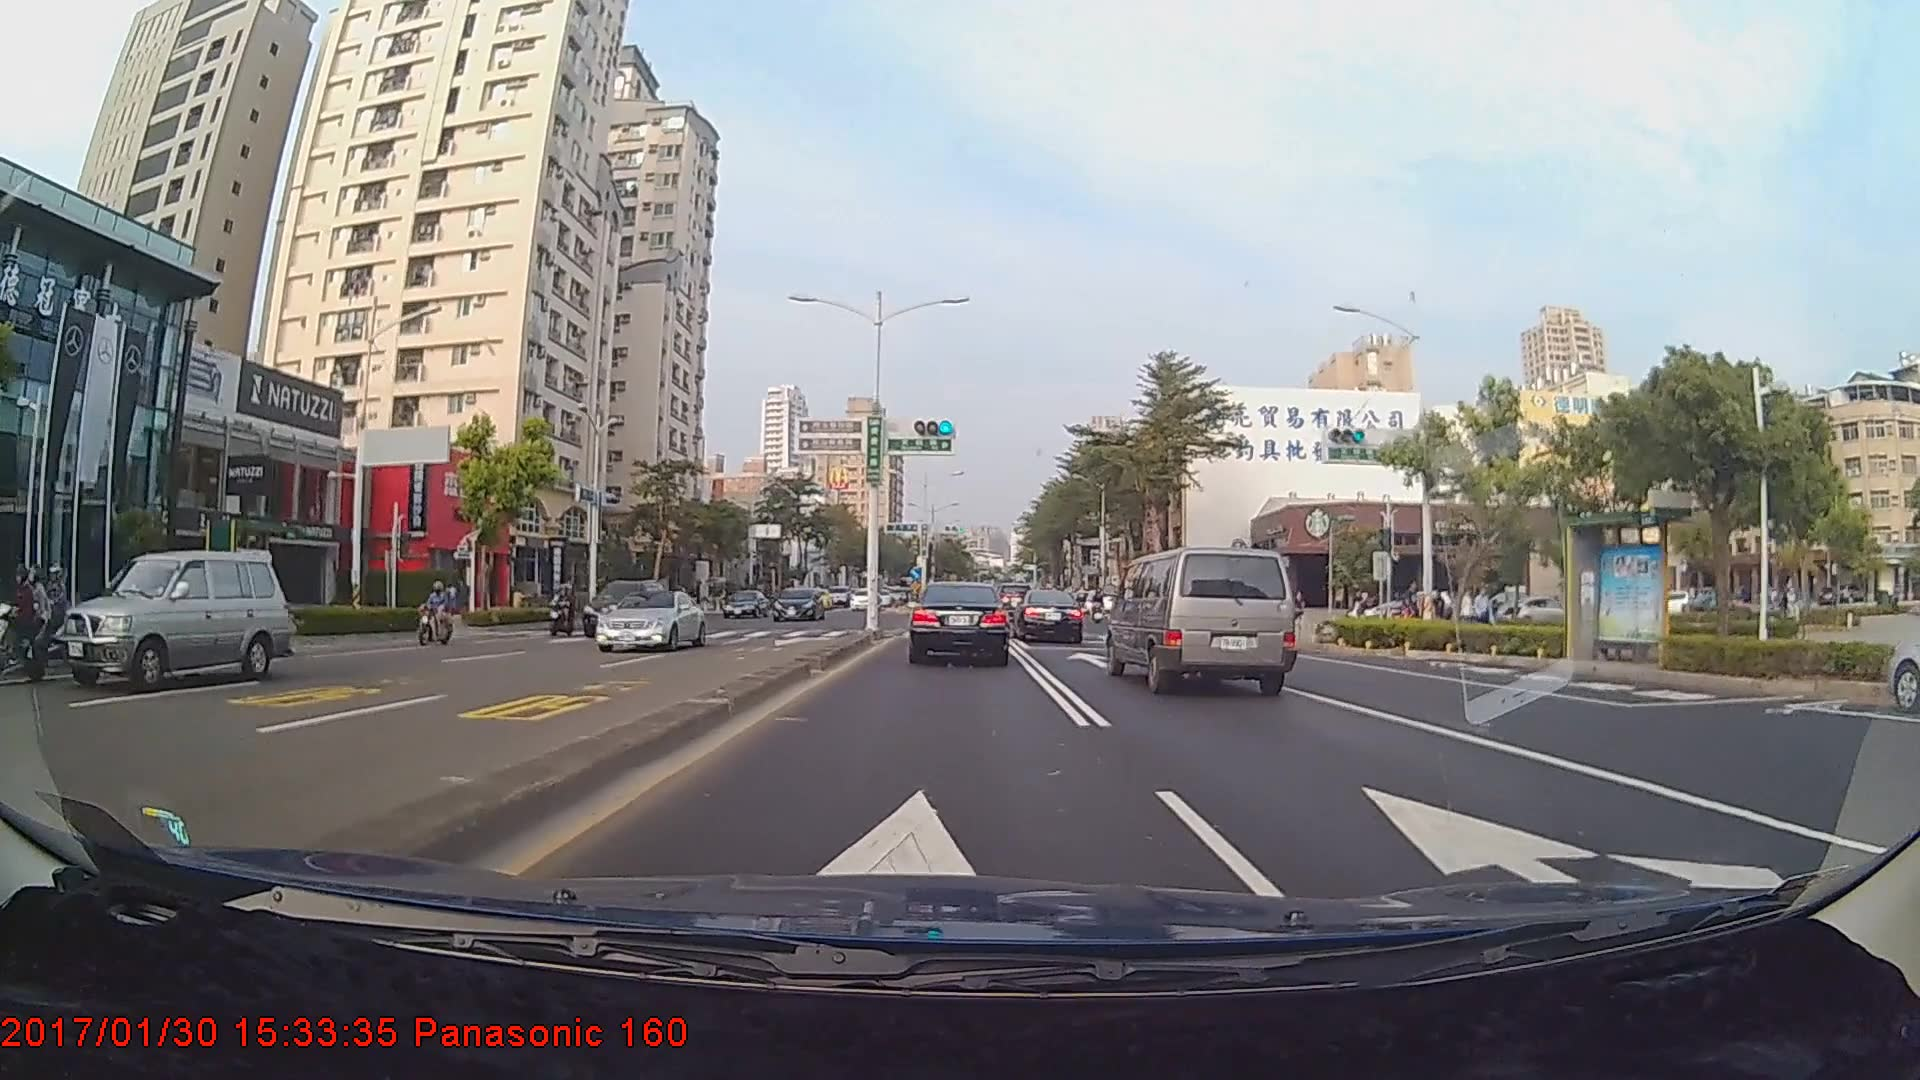rider: (1, 559, 88, 683), (415, 576, 463, 652), (543, 578, 576, 640), (538, 585, 567, 630)
vehicle: (60, 547, 288, 692), (1106, 543, 1300, 696), (911, 580, 1008, 663), (594, 590, 706, 653), (579, 578, 667, 639), (1013, 588, 1085, 644), (771, 585, 831, 623), (722, 590, 768, 618)
